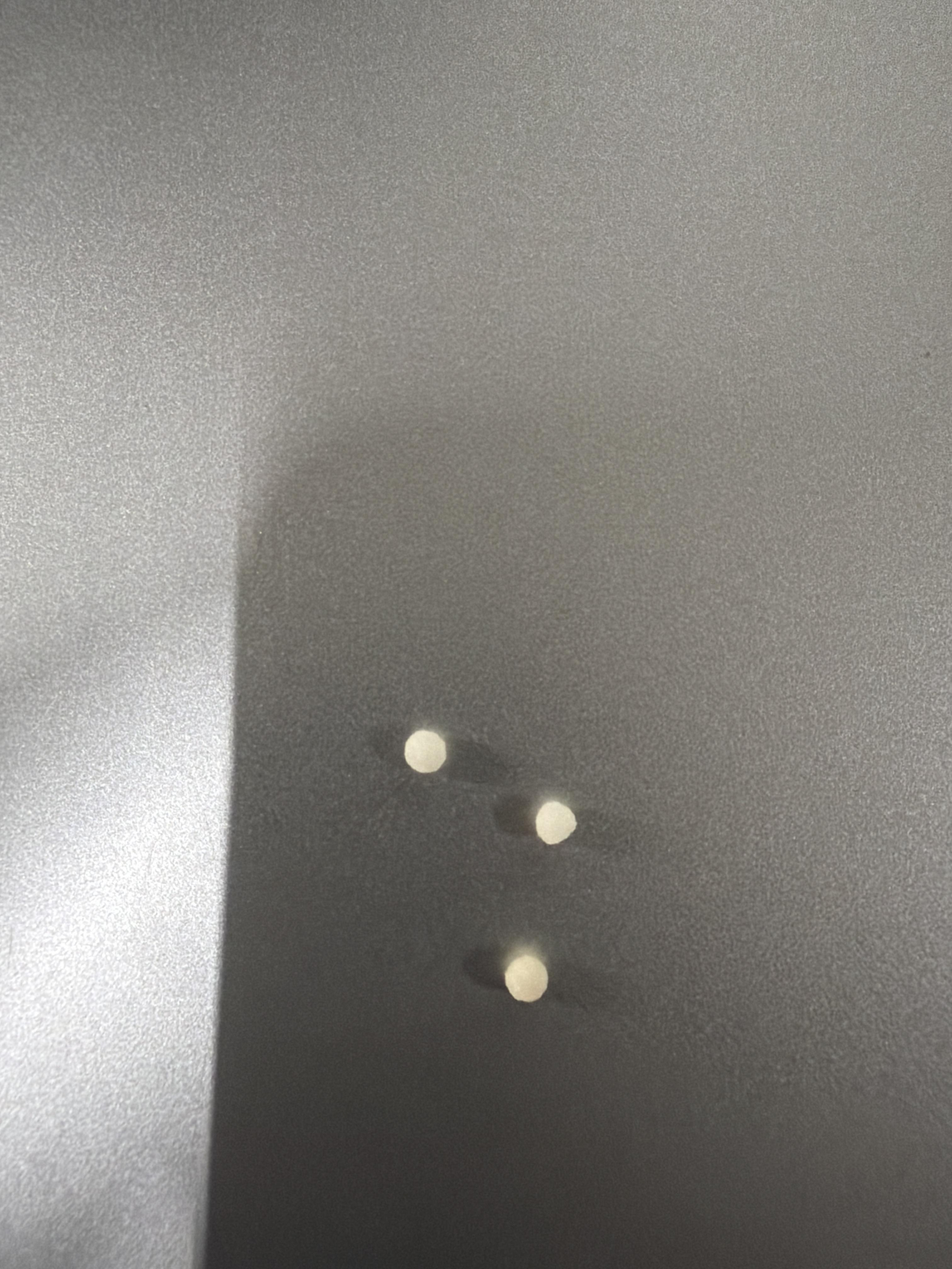pill: (475, 923, 548, 1013), (535, 784, 599, 870), (397, 690, 445, 776)
